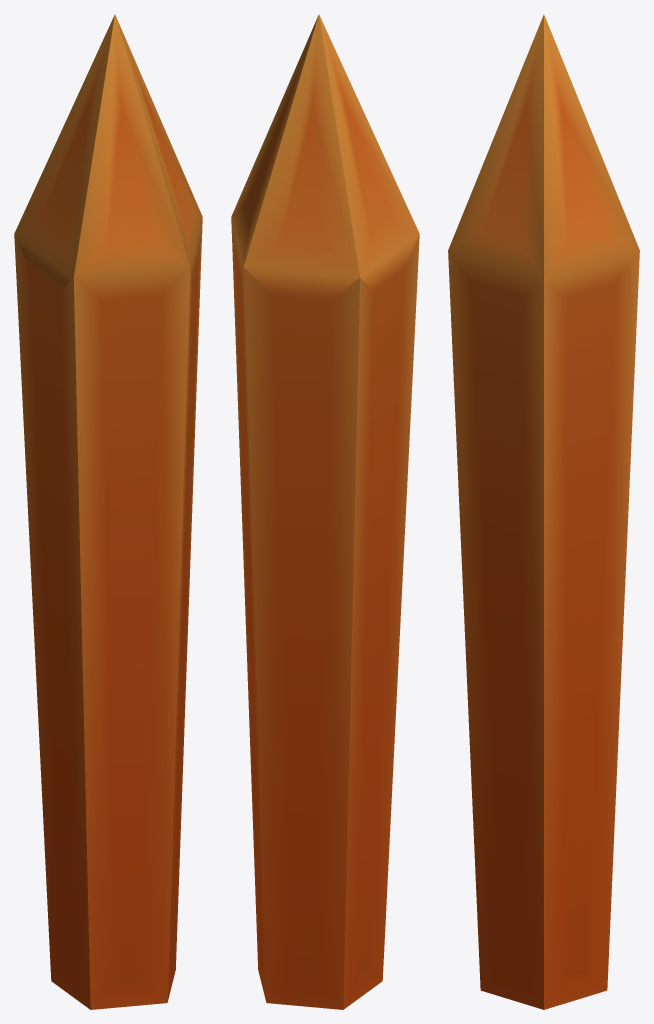
File: Prop_Crystals_Orange.fbx
The picture shows the model from 3 angles, left to right: view 1: azimuth 30°, elevation 25°; view 2: azimuth 150°, elevation 25°; view 3: azimuth 270°, elevation 25°; orthographic projection.
Parts seen in each view (by area): view 1: Prop_Crystals_Orange; view 2: Prop_Crystals_Orange; view 3: Prop_Crystals_Orange.
Boxes of the visible parts, x1,y1,x2,y2 form: Prop_Crystals_Orange: (14,14,202,1009); Prop_Crystals_Orange: (231,14,419,1009); Prop_Crystals_Orange: (448,14,639,1009).
Size of the model in its own units: 20.56 by 120 by 21.62.
1 material, 1 textured.
